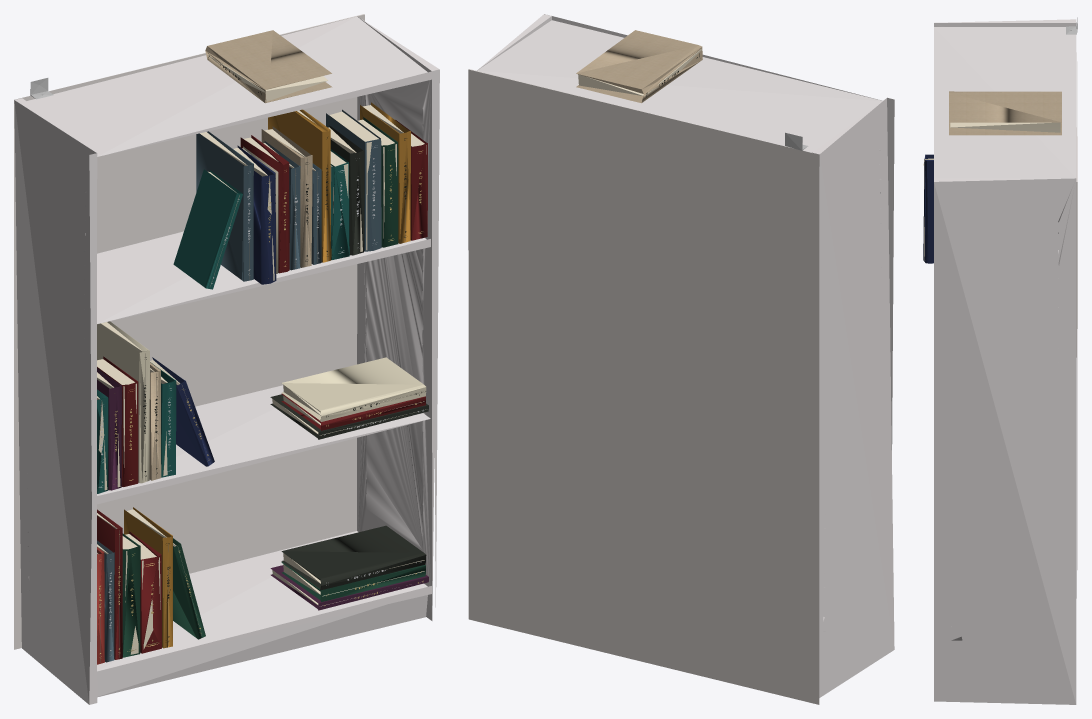
File: bookshelf_with_books.glb
The picture shows the model from 3 angles, left to right: view 1: azimuth 30°, elevation 25°; view 2: azimuth 150°, elevation 25°; view 3: azimuth 270°, elevation 25°; orthographic projection. The views are drawn at different scales.
Visible parts, largest first — view 1: Back_panel_mesh; view 2: Back_panel_mesh; view 3: Back_panel_mesh.
Boxes of the visible parts, x1=… form: Back_panel_mesh: x1=14, y1=14, x2=439, y2=704; Back_panel_mesh: x1=468, y1=14, x2=894, y2=704; Back_panel_mesh: x1=923, y1=17, x2=1077, y2=704.
Bounding box in the file's own units: 0.8 × 1.23 × 0.3211.
Materials: 2 (2 with a texture image).
